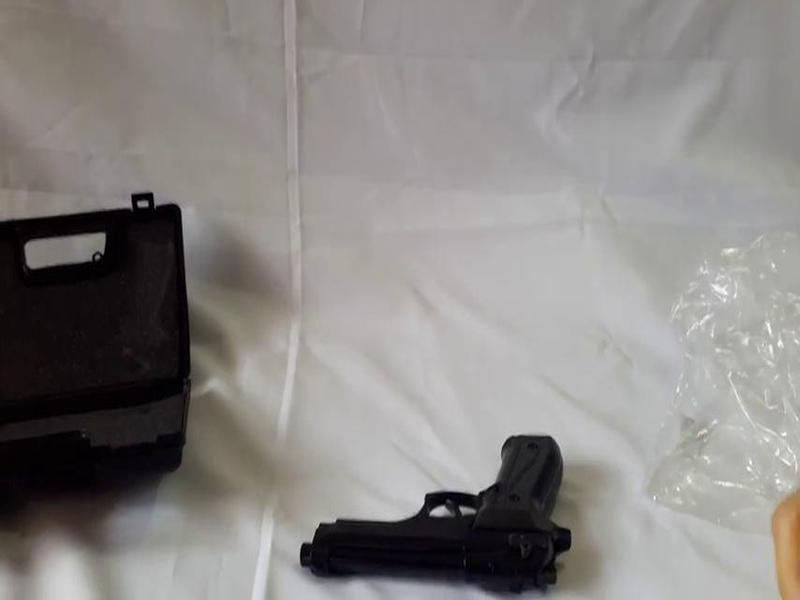Pistola: (293, 421, 619, 600)
